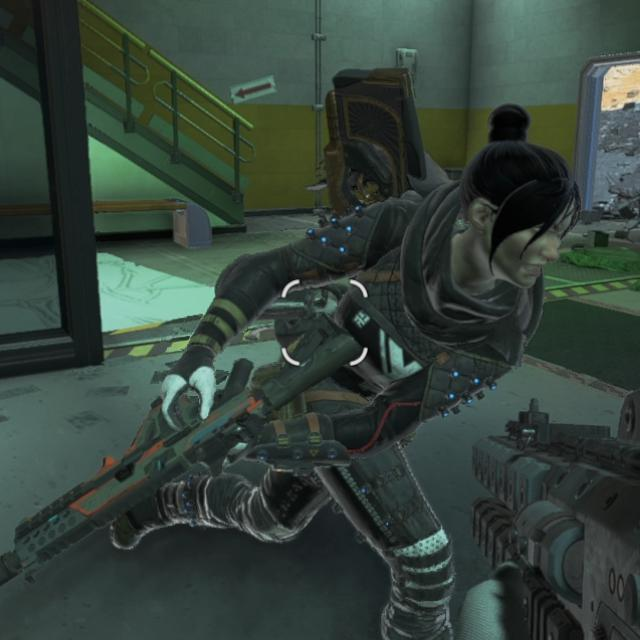avatar: (102, 138, 582, 640)
